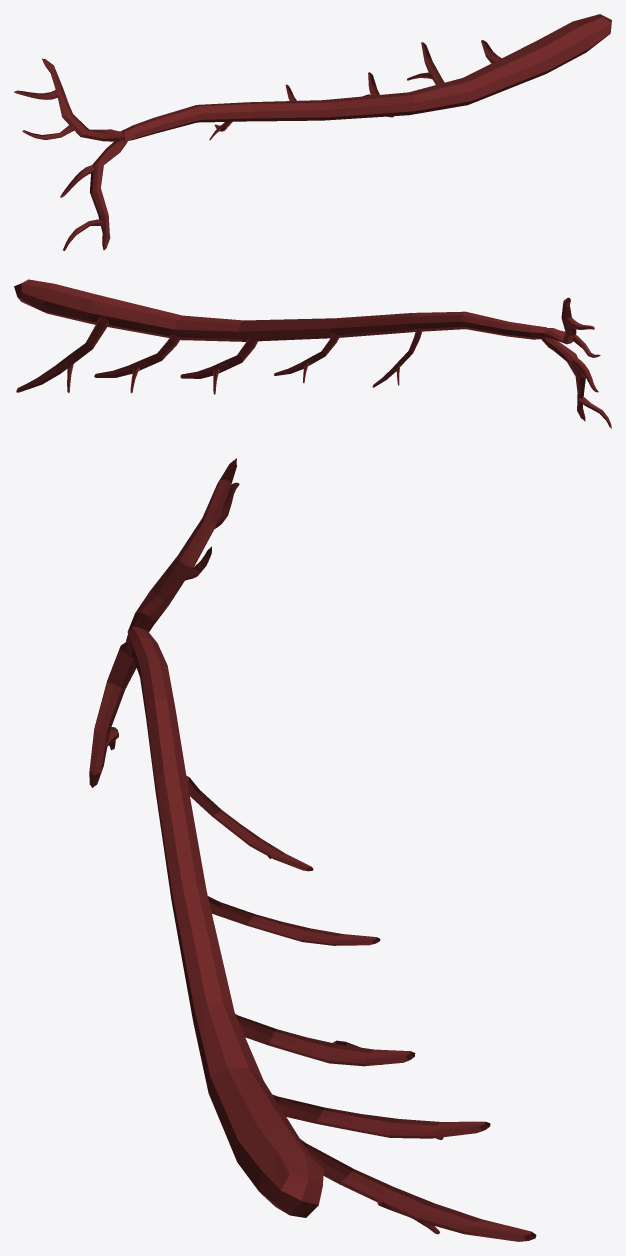
Rendered from ArteriaEsplenica.FBX.
3 views of the same model, one above another, from view 1: azimuth 30°, elevation 25°; view 2: azimuth 150°, elevation 25°; view 3: azimuth 270°, elevation 25° (orthographic). The views are drawn at different scales.
Visible parts, largest first — view 1: CS_Arterie005; view 2: CS_Arterie005; view 3: CS_Arterie005.
Boxes of the visible parts, x1,y1,x2,y2 form: CS_Arterie005: (14, 14, 611, 250); CS_Arterie005: (14, 279, 611, 428); CS_Arterie005: (89, 458, 536, 1241).
Bounding box in the file's own units: 13.14 × 3.74 × 4.51.
